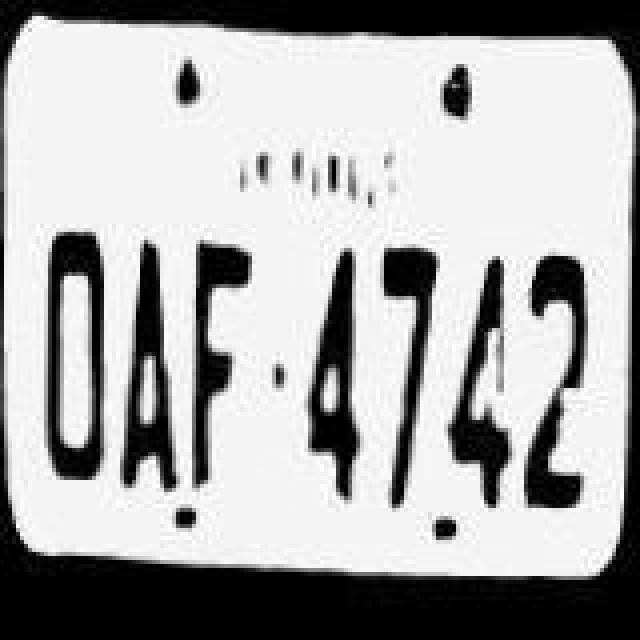2: (522, 226, 606, 534)
4: (292, 236, 372, 520), (448, 242, 520, 538)
7: (372, 232, 444, 524)
A: (122, 224, 190, 504)
F: (188, 228, 268, 496)
O: (34, 246, 126, 538)
